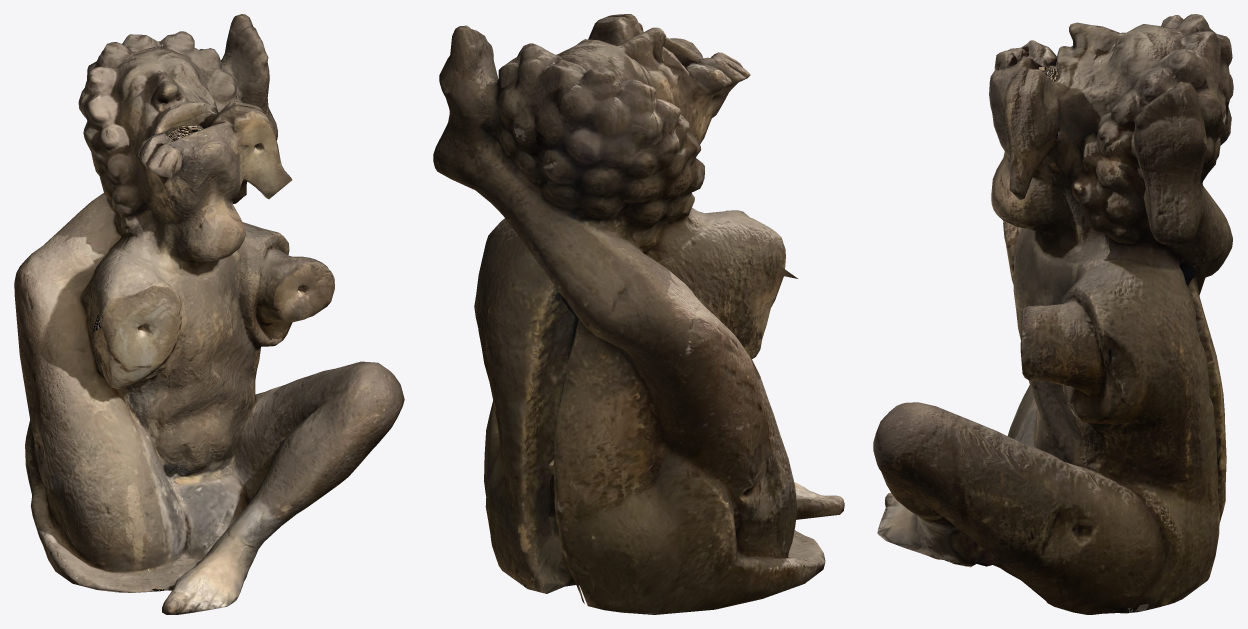
Rendered from 07_zanner.glb.
3 renders of one model, left to right at view 1: azimuth 30°, elevation 25°; view 2: azimuth 150°, elevation 25°; view 3: azimuth 270°, elevation 25°, orthographic. The views are drawn at different scales.
Visible parts, largest first — view 1: Mesh_0.001; view 2: Mesh_0.001; view 3: Mesh_0.001.
Part boxes in pixels (x1,y1,x2,y2): Mesh_0.001: (14, 14, 404, 614); Mesh_0.001: (433, 14, 844, 614); Mesh_0.001: (873, 14, 1233, 614).
Size of the model in its own units: 1.22 by 1.87 by 1.14.
Materials: 5 (5 with a texture image).
